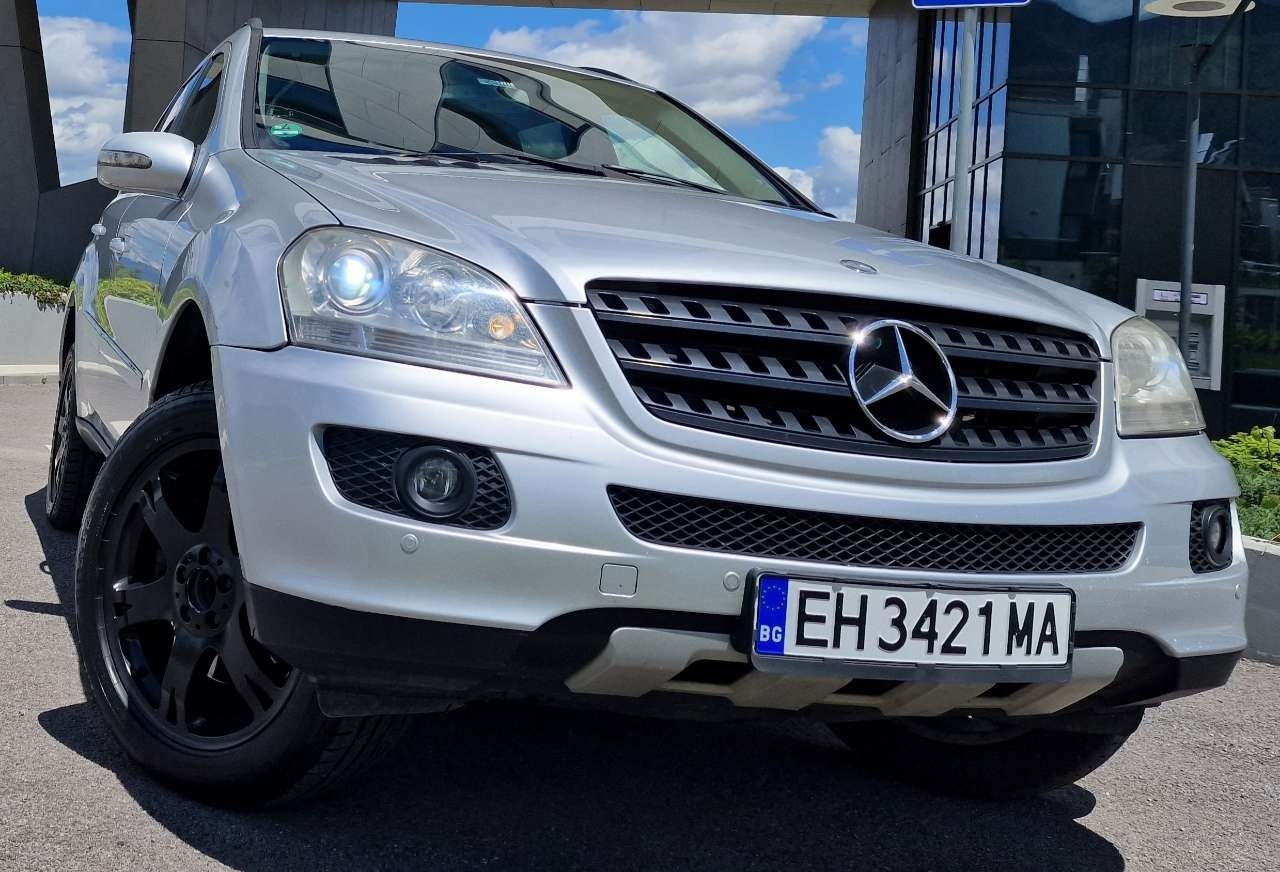registration_plate: (746, 571, 1079, 680)
